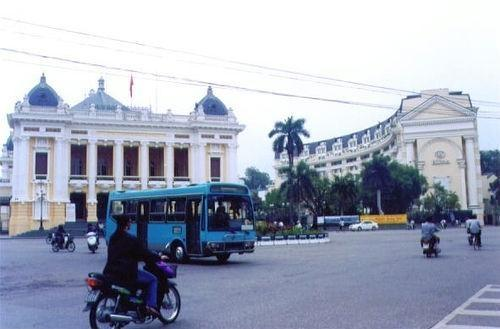bicycle: (472, 234, 480, 250)
bus: (102, 182, 257, 260)
car: (348, 220, 379, 231)
motorcycle: (83, 261, 184, 325), (50, 233, 76, 252), (422, 238, 439, 257), (86, 229, 98, 253), (469, 233, 481, 249), (466, 229, 472, 245)
